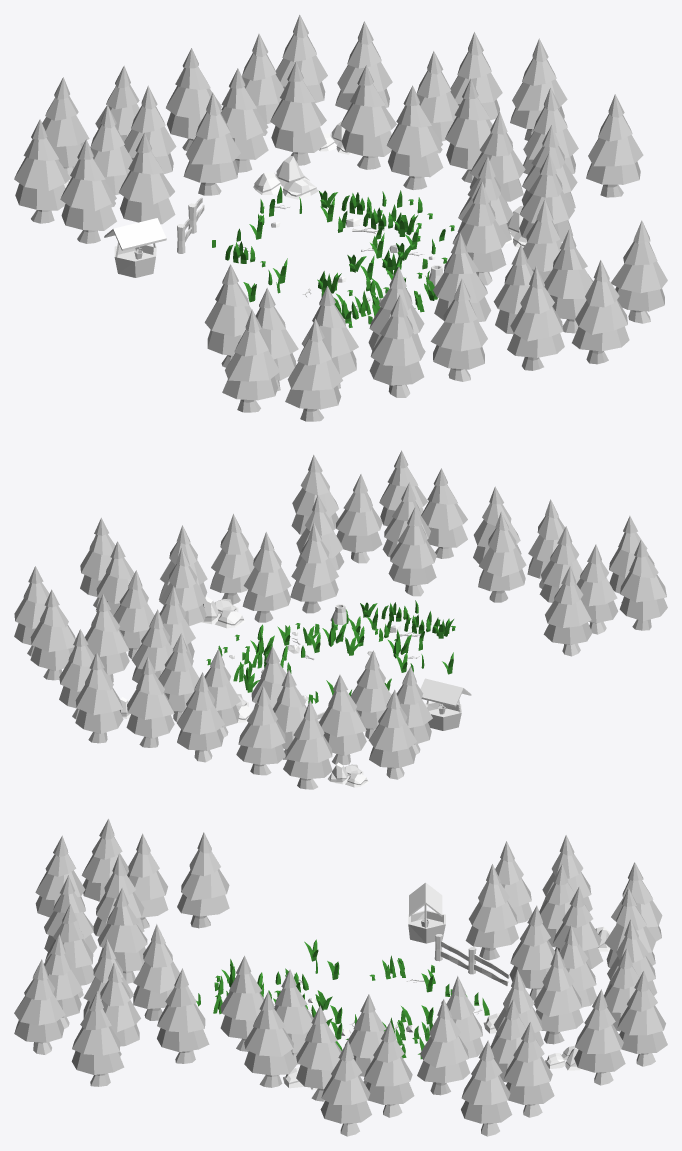
File: terrain.gltf
3 views of the same model, one above another, from view 1: azimuth 30°, elevation 25°; view 2: azimuth 150°, elevation 25°; view 3: azimuth 270°, elevation 25° (orthographic). The views are drawn at different scales.
Visible parts, largest first — view 1: PineTree_04.016, PineTree_04.005, PineTree_04.053, PineTree_04.052, PineTree_04.018, PineTree_04.007, PineTree_04.028, PineTree_04.027, PineTree_04.014, PineTree_04.023, PineTree_04.008, PineTree_04.042 (+32 smaller); view 2: PineTree_04.028, PineTree_04.021, PineTree_04.022, PineTree_04.026, PineTree_04.025, PineTree_04.044, PineTree_04.004, PineTree_04.000, PineTree_04.007, PineTree_04.048, PineTree_04.019, PineTree_04.041 (+33 smaller); view 3: PineTree_04.001, PineTree_04.015, PineTree_04.006, PineTree_04.041, PineTree_04.047, PineTree_04.046, PineTree_04.053, PineTree_04.023, PineTree_04.020, PineTree_04.013, PineTree_04.022, PineTree_04.011 (+34 smaller).
Part boxes in pixels (x1,y1,x2,y2): PineTree_04.016: (386,85,443,189); PineTree_04.005: (60,139,116,243); PineTree_04.053: (572,260,629,364); PineTree_04.052: (507,266,564,370); PineTree_04.018: (270,61,326,165); PineTree_04.007: (14,119,70,223); PineTree_04.028: (222,309,279,412); PineTree_04.027: (285,318,342,421); PineTree_04.014: (340,65,396,169); PineTree_04.023: (586,94,643,197); PineTree_04.008: (183,92,240,195); PineTree_04.042: (369,294,425,397); PineTree_04.028: (619,539,667,630); PineTree_04.021: (126,657,174,747); PineTree_04.022: (75,652,123,743); PineTree_04.026: (283,700,332,789); PineTree_04.025: (236,686,285,775); PineTree_04.044: (478,511,526,602); PineTree_04.004: (290,522,338,613); PineTree_04.000: (242,532,291,622); PineTree_04.007: (368,689,416,779); PineTree_04.048: (388,506,436,596); PineTree_04.019: (177,672,224,762); PineTree_04.041: (543,566,592,656); PineTree_04.001: (244,991,296,1087); PineTree_04.015: (417,999,470,1095); PineTree_04.006: (465,864,518,960); PineTree_04.041: (177,832,229,928); PineTree_04.047: (71,991,124,1086); PineTree_04.046: (157,968,209,1063); PineTree_04.053: (14,959,65,1054); PineTree_04.023: (320,1040,371,1136); PineTree_04.020: (574,989,625,1085); PineTree_04.013: (461,1040,512,1136); PineTree_04.022: (617,970,667,1066); PineTree_04.011: (504,1021,554,1117).
Size of the model in its own units: 13.17 by 2.38 by 14.92.
